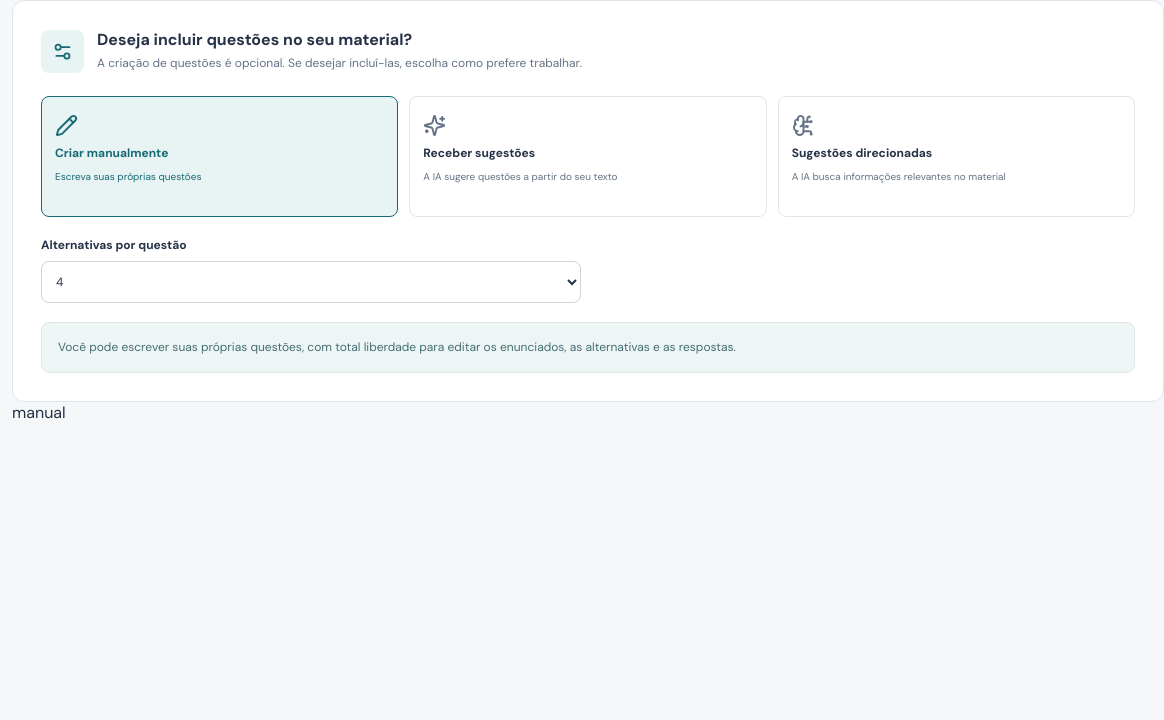
Test: opções de preparação do material › apresenta configurações adicionais para sugestões direcionadas
The width and height of the screenshot is (1164, 720).
Step 1. Click the button "Sugestões direcionadas" → (862, 153), box [778,96,1135,217]
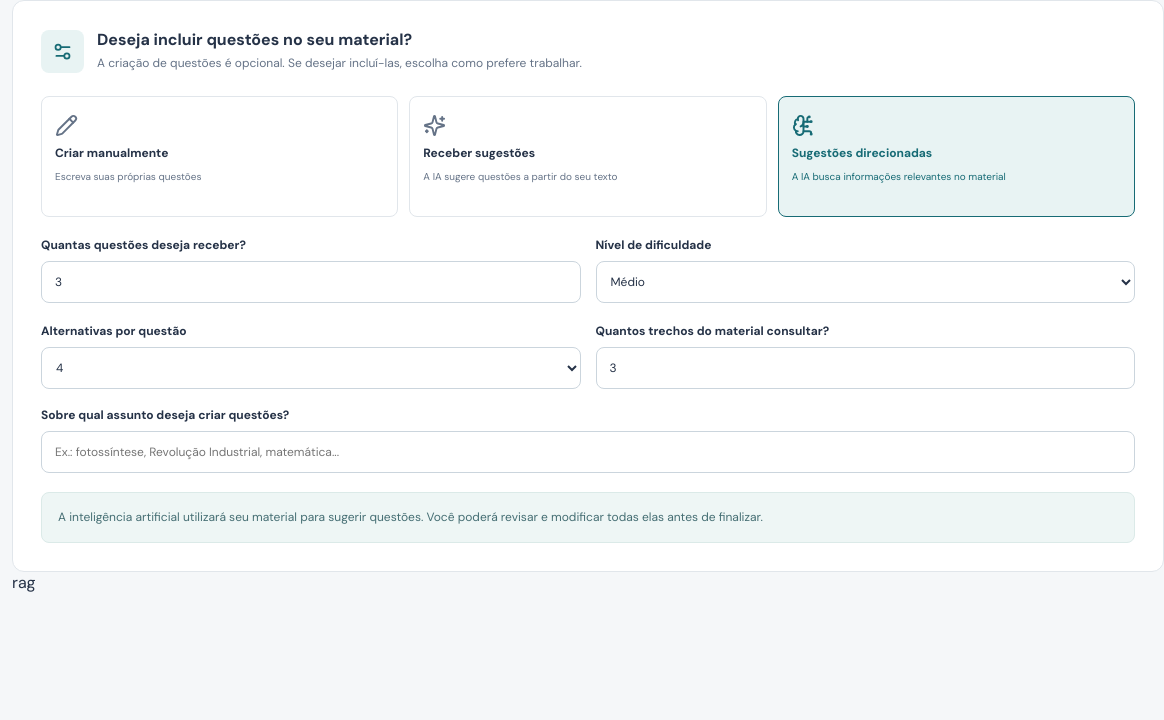
Expected: the text with test id "selected-mode" reads "rag", [12,572,36,593]
Expected: the field labelled "Sobre qual assunto deseja criar questões?" is shown, [41,431,1135,473]
